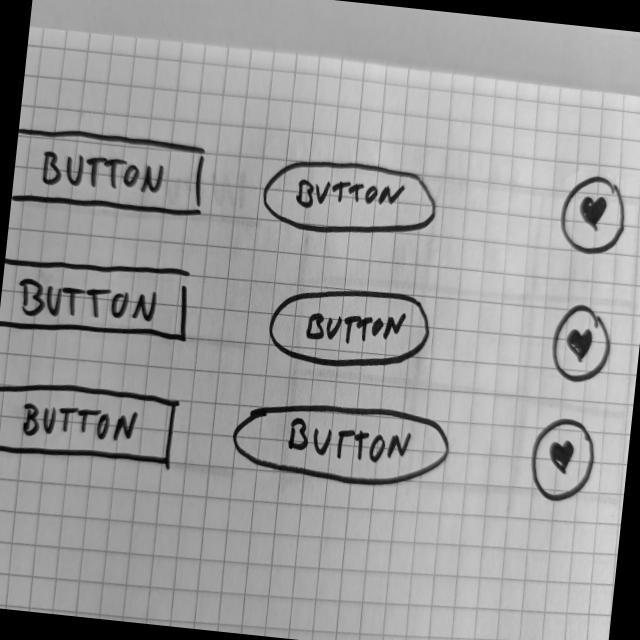button: (228, 392, 457, 496), (11, 123, 215, 228), (1, 250, 196, 351), (259, 152, 443, 249), (1, 375, 181, 473), (265, 277, 439, 378)
icon-button: (555, 172, 633, 261), (525, 414, 599, 507), (547, 301, 618, 389)
